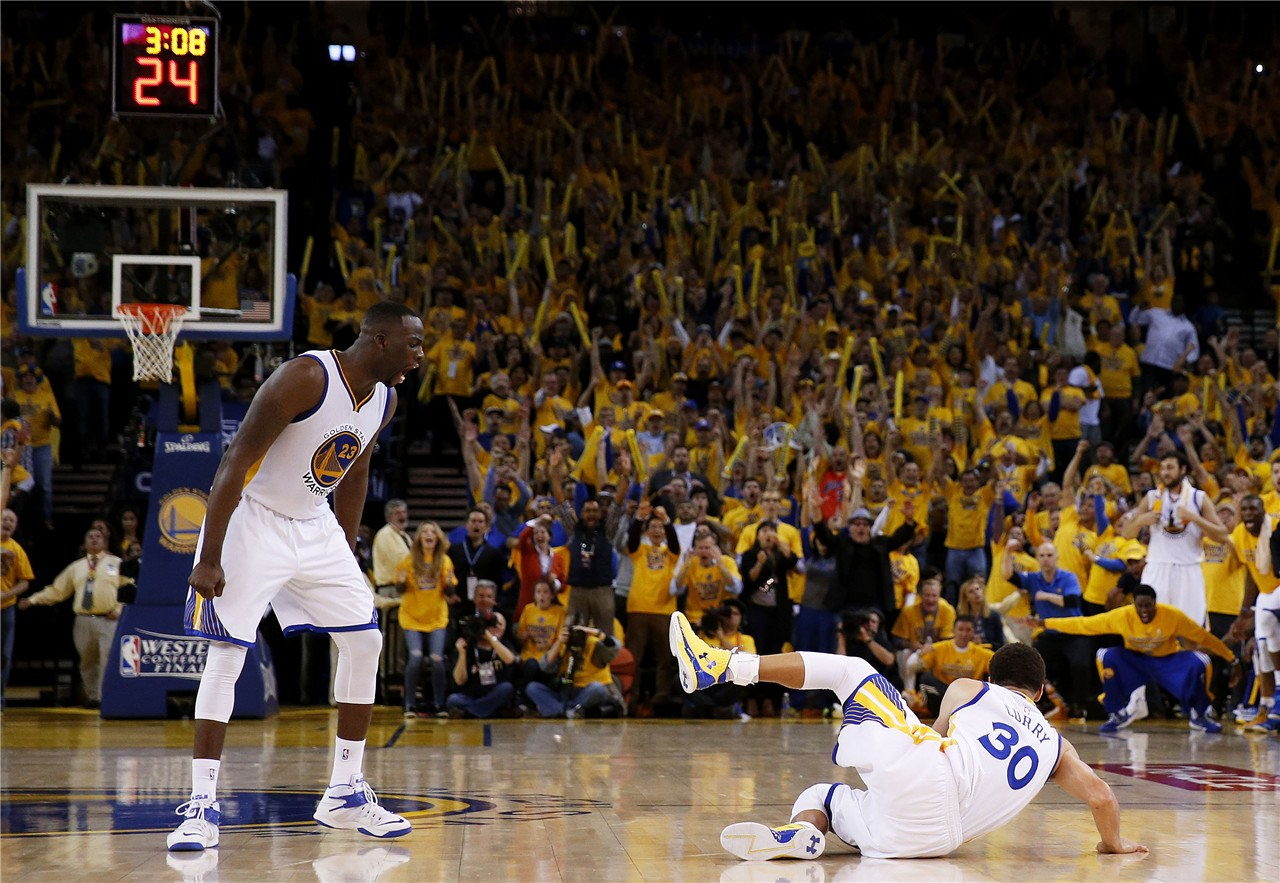10+: (1, 1, 1280, 883)
down: (647, 580, 1156, 876)
